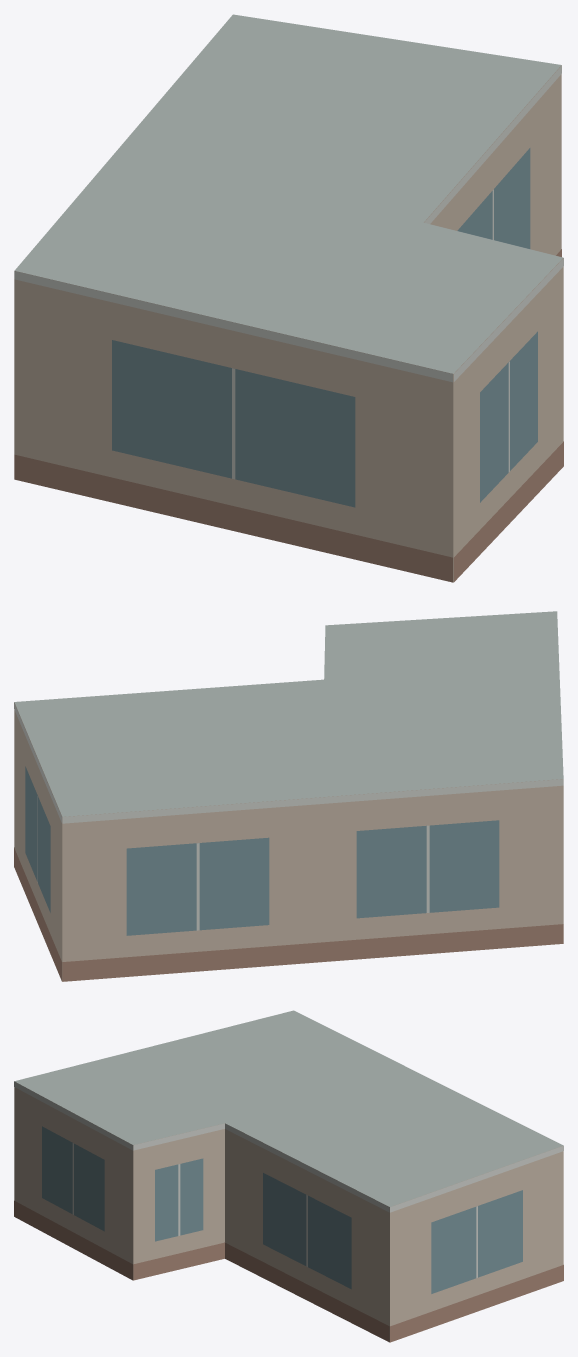
The model's file is survey-upis-32636035.glb.
The picture shows the model from 3 angles, top to bottom: view 1: azimuth 30°, elevation 25°; view 2: azimuth 150°, elevation 25°; view 3: azimuth 270°, elevation 25°; orthographic projection. The views are drawn at different scales.
Visible parts, largest first — view 1: survey-upis-32636035.tmp; view 2: survey-upis-32636035.tmp; view 3: survey-upis-32636035.tmp.
Part boxes in pixels (<box>): survey-upis-32636035.tmp: <box>14,14,563,582</box>; survey-upis-32636035.tmp: <box>14,611,563,981</box>; survey-upis-32636035.tmp: <box>14,1010,563,1342</box>.
Bounding box in the file's own units: 9.52 × 3.05 × 11.23.
